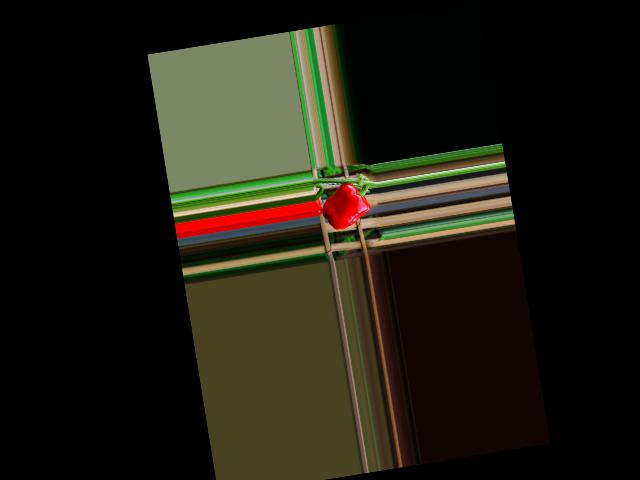bell_pepper: (318, 176, 373, 235)
